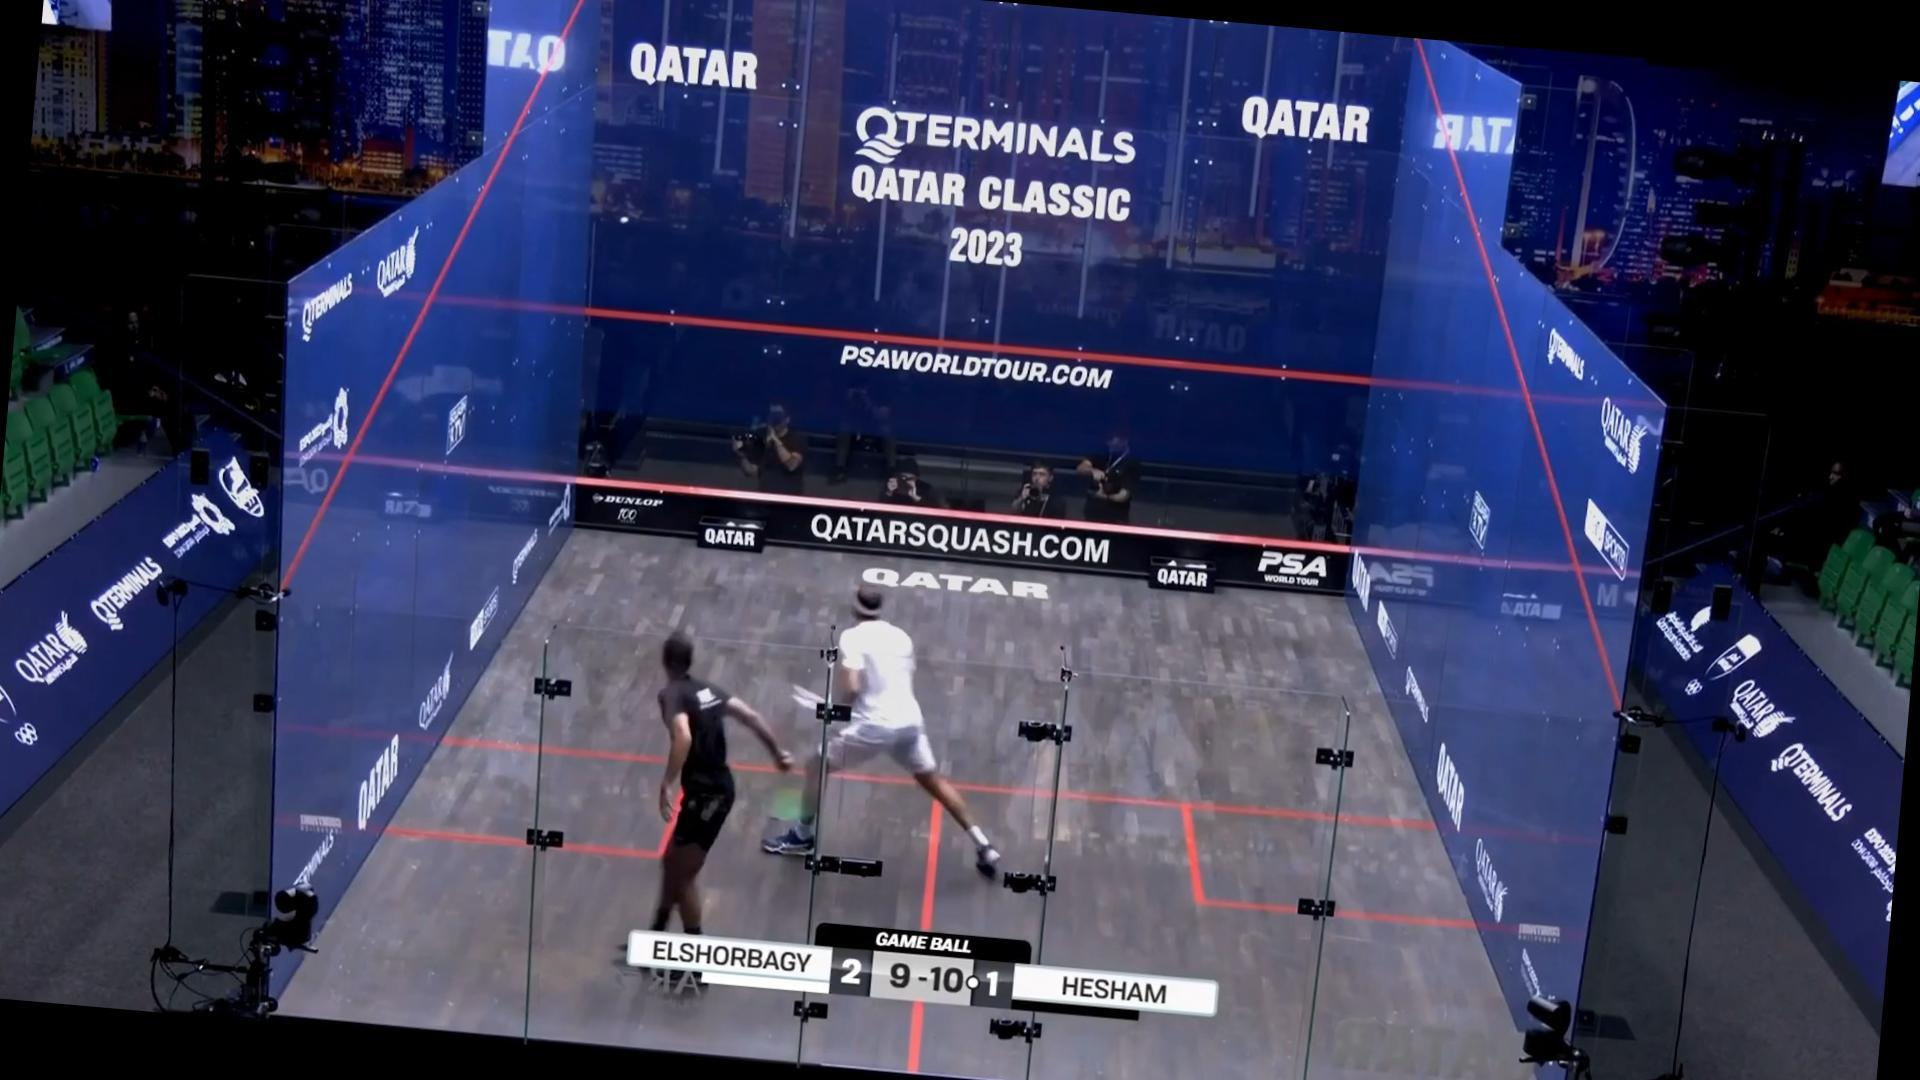Squash-Ball: (607, 200, 644, 239)
